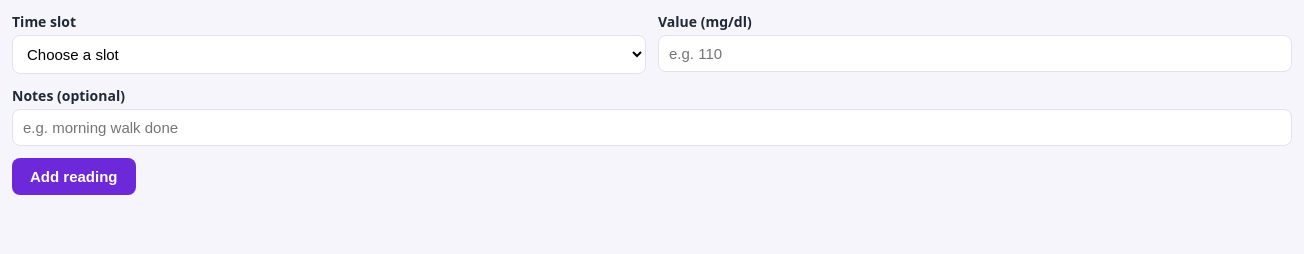
it: ReadingForm › shows the server error message when saving fails (e.g. duplicate slot)
The width and height of the screenshot is (1304, 254).
Select "Morning (fasting)" in the dropdown labelled "Time slot": (329, 54) [12,35,646,74]
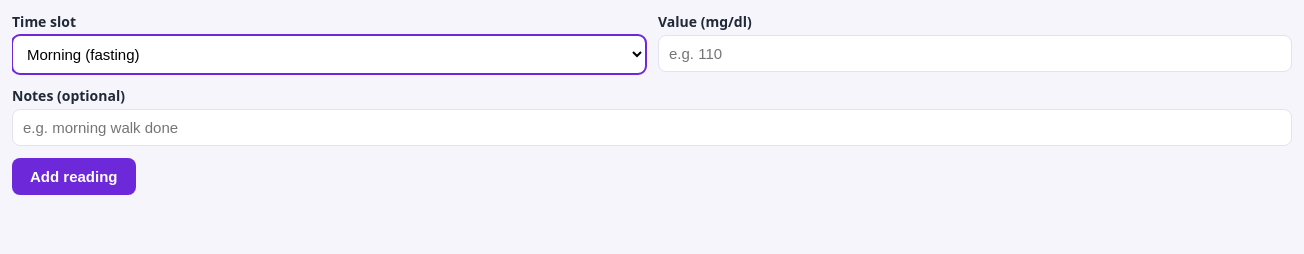
In the number field labelled "Value (mg/dl)": (975, 54) [658,35,1292,72], type "110"
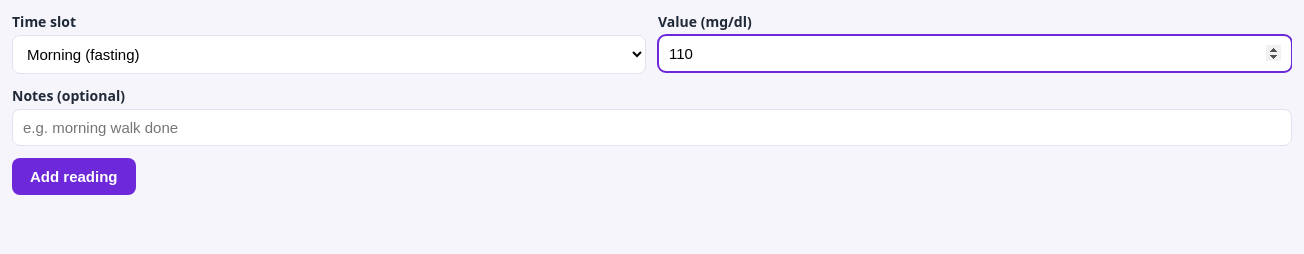
Click the button "Add reading": (74, 176) [12,158,136,195]
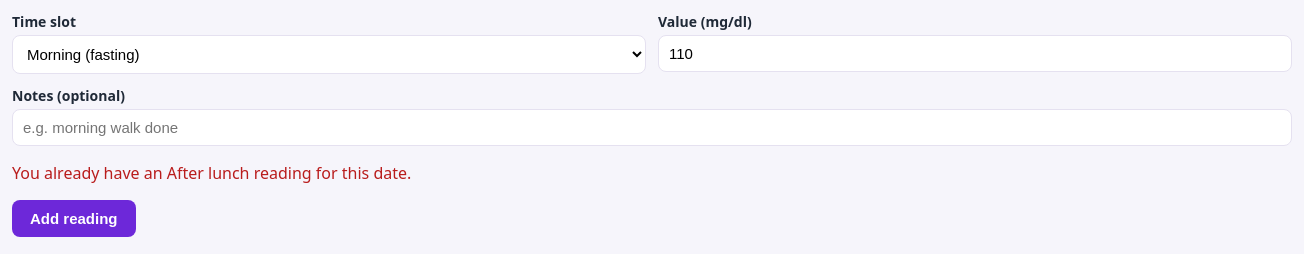
Expected: the message reads "You already have an After lunch reading for this date.", [12,162,411,184]
